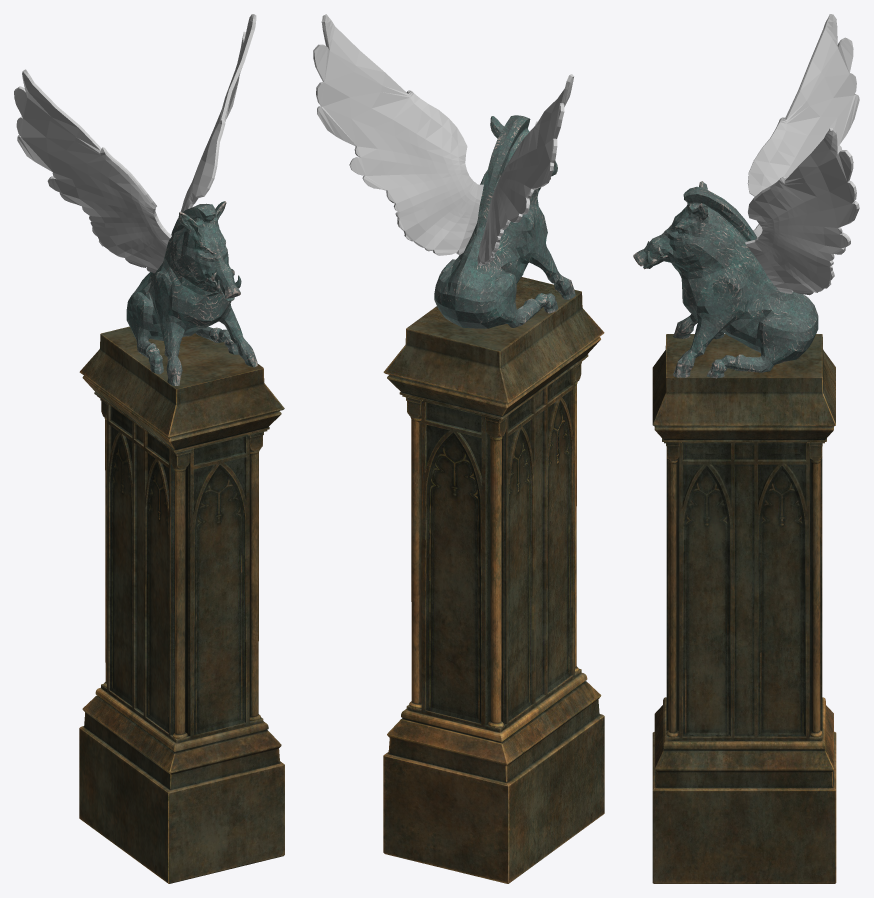
The model's file is LT_Hog.FBX.
3 views of the same model, side by side, from view 1: azimuth 30°, elevation 25°; view 2: azimuth 150°, elevation 25°; view 3: azimuth 270°, elevation 25° (orthographic). The views are drawn at different scales.
Visible parts, largest first — view 1: Hog; view 2: Hog; view 3: Hog.
Part boxes in pixels (<box>): Hog: <box>14,14,284,883</box>; Hog: <box>313,14,604,883</box>; Hog: <box>633,14,859,883</box>.
Size of the model in its own units: 450 by 1406 by 368.
